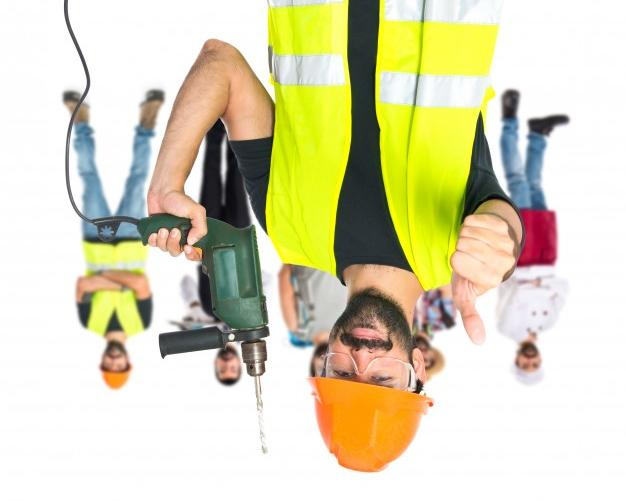thumbsdown: (450, 214, 516, 345)
